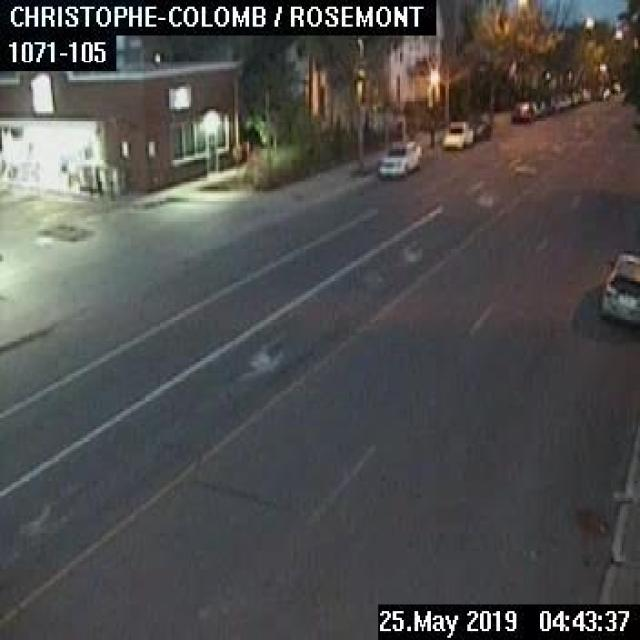vehicle: (600, 249, 638, 329), (377, 141, 421, 177), (442, 120, 471, 148), (509, 102, 532, 124), (472, 120, 489, 141)
